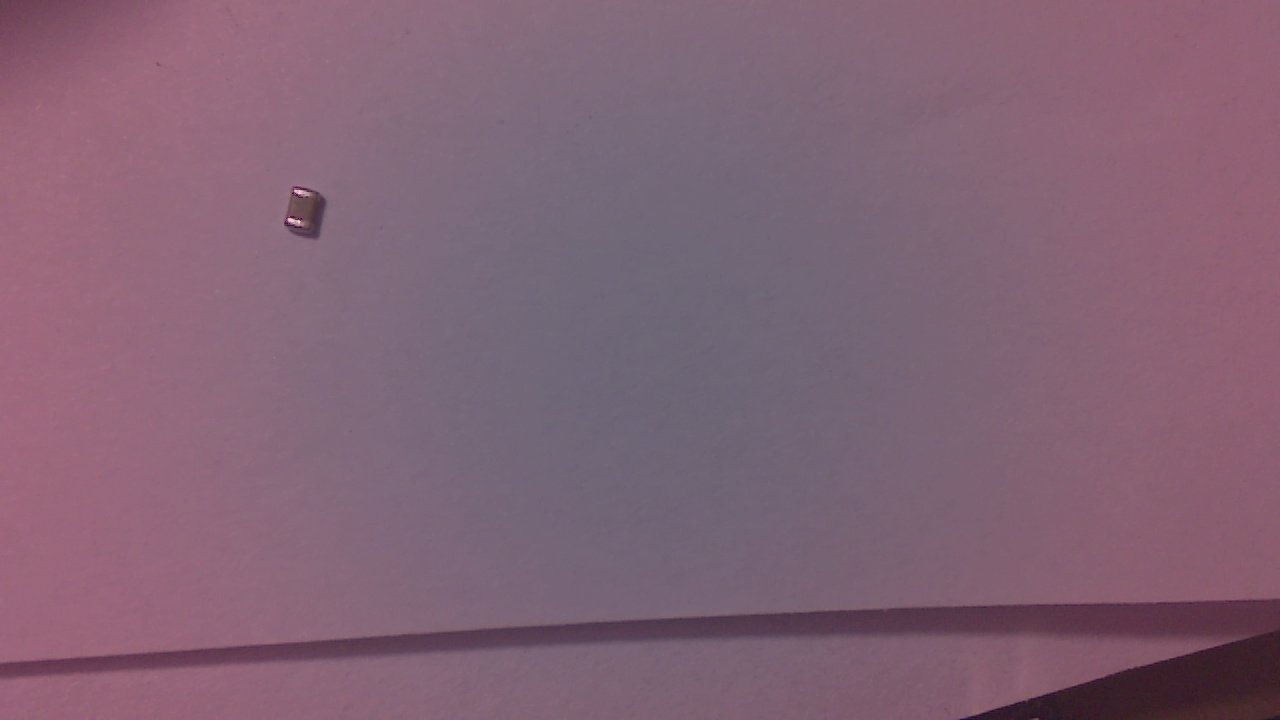Condensator: (287, 193, 334, 248)
